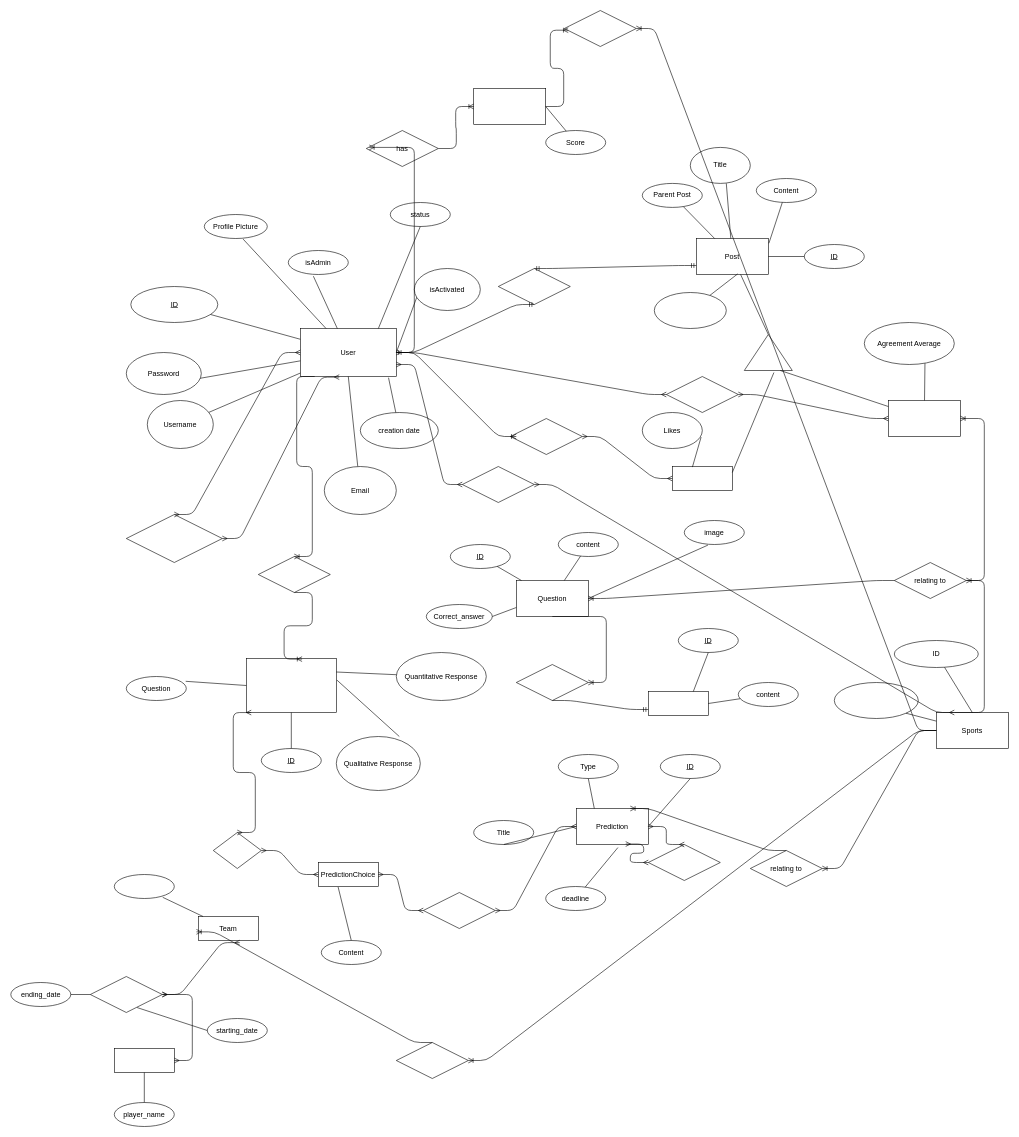
Some shapes in this 1019 by 1137 pixel diagram are drawn without their labels. The shapes that lost their labels are listed below. From the top down, each one's box as (x1, y1, x2, y2) in pixels, then its label:
(564, 10, 636, 46): For
(473, 88, 546, 124): ACS
(498, 268, 570, 304): Posts
(654, 292, 726, 328): Attached_files
(744, 334, 792, 370): isA
(666, 376, 738, 412): Agrees
(510, 418, 582, 454): Likes/Dislikes
(888, 400, 960, 436): Debate Post
(462, 466, 534, 502): HighLights
(672, 466, 732, 490): Social Post
(126, 514, 222, 562): Follows
(258, 556, 330, 592): submits
(246, 658, 336, 712): Questionaire Response
(516, 664, 588, 700): Answers
(834, 682, 918, 718): Name
(648, 691, 708, 716): Answer
(213, 832, 261, 868): predicts
(648, 844, 720, 880): Dependence
(114, 874, 174, 898): team_name
(423, 892, 495, 928): predictsFor
(90, 976, 162, 1012): playsOn
(114, 1048, 174, 1072): Player
(396, 1042, 468, 1078): Plays
